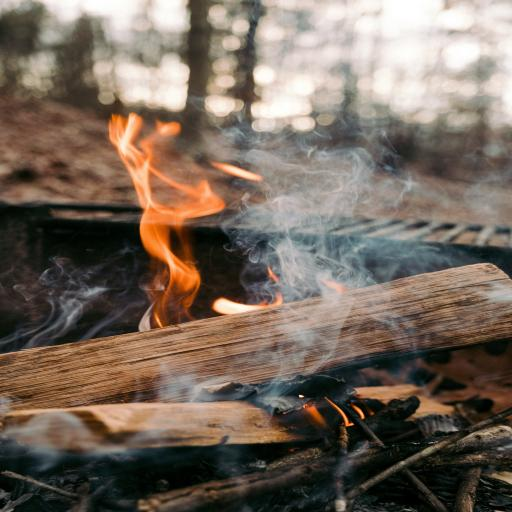campfire: (0, 100, 512, 512)
fire: (100, 110, 250, 313)
